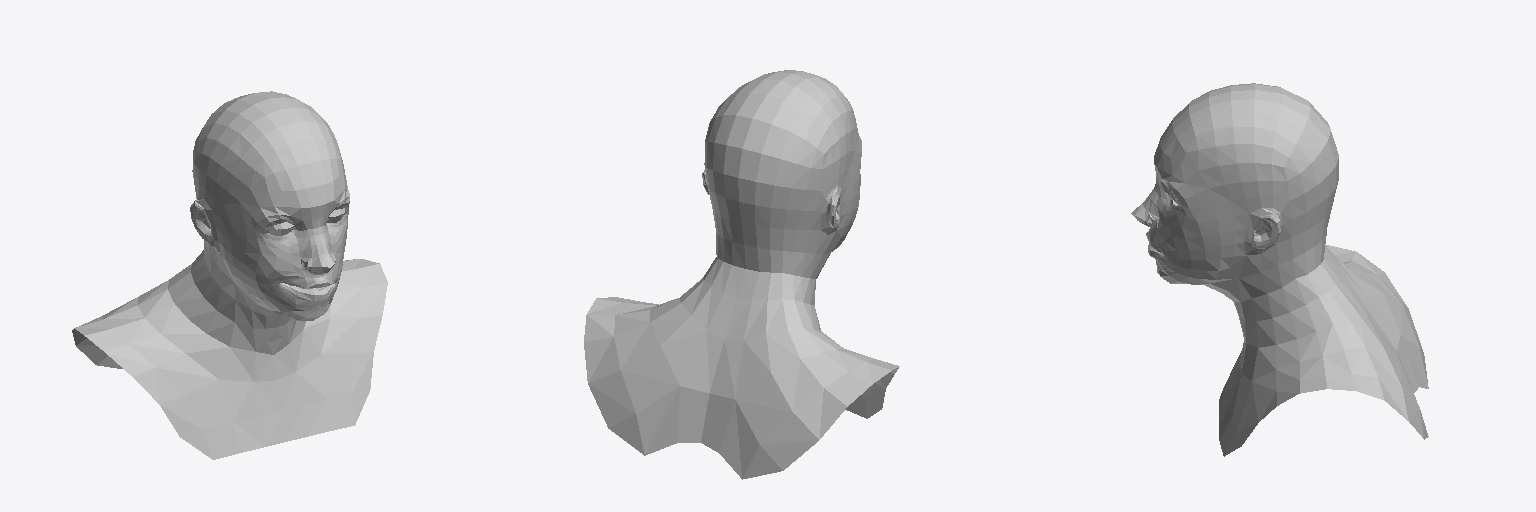
The model's file is RSmile.obj.
3 views of the same model, side by side, from view 1: azimuth 30°, elevation 25°; view 2: azimuth 150°, elevation 25°; view 3: azimuth 270°, elevation 25° (orthographic).
Parts seen in each view (by area): view 1: Rsmile Blendshapes; view 2: Rsmile Blendshapes; view 3: Rsmile Blendshapes.
Boxes of the visible parts, <box> form: Rsmile Blendshapes: <box>72,91,387,459</box>; Rsmile Blendshapes: <box>584,70,899,479</box>; Rsmile Blendshapes: <box>1131,83,1428,456</box>.
Bounding box in the file's own units: 449 × 482 × 391.